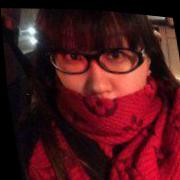WRONG: (44, 18, 154, 138)
